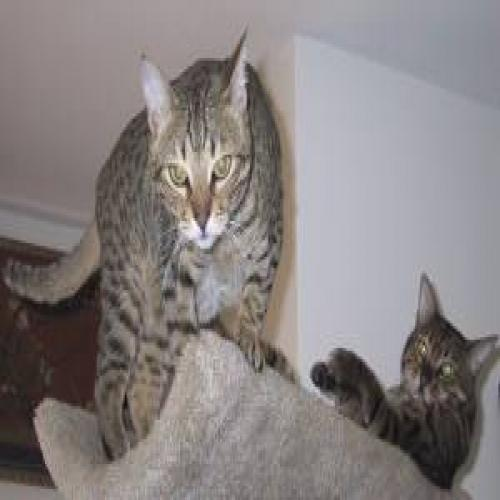cat-face: (124, 25, 275, 257)
